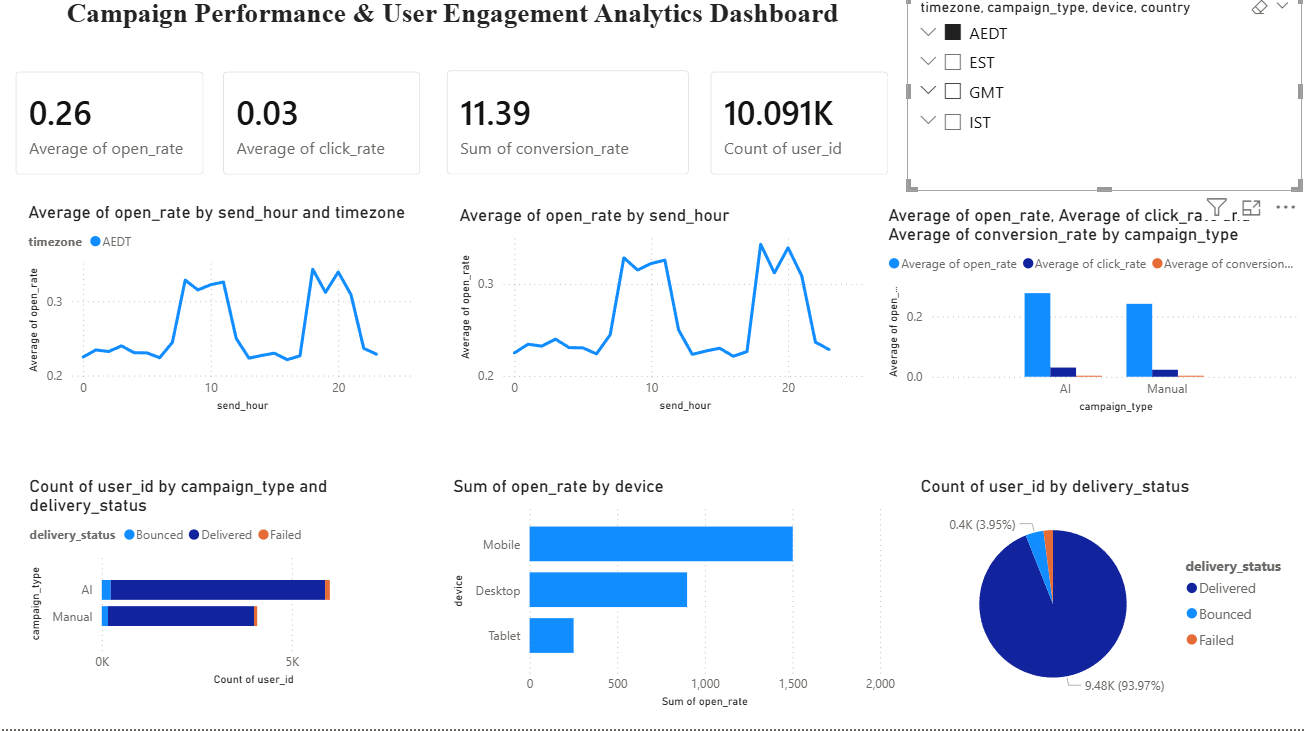

Layout of this report page (visuals, bound fields, positions):
{"tool":"powerbi","page":{"name":"Page 1","canvas":[1280,720],"ordinal":0},"visuals":[{"type":"slicer","fields":{"Values":["marketing_campaign_dataset_50k.timezone","marketing_campaign_dataset_50k.campaign_type","marketing_campaign_dataset_50k.device","marketing_campaign_dataset_50k.country"]},"box":[890,0,386.2,193.8],"z":0},{"type":"cardVisual","fields":{"Data":["Avg(marketing_campaign_dataset_50k.open_rate)"]},"box":[1.2,60,218.8,135],"z":1000},{"type":"cardVisual","fields":{"Data":["Avg(marketing_campaign_dataset_50k.click_rate)"]},"box":[203.8,60,227.5,135],"z":2000},{"type":"cardVisual","fields":{"Data":["Sum(marketing_campaign_dataset_50k.conversion_rate)"]},"box":[422.5,58.8,271.2,136.2],"z":3000},{"type":"cardVisual","fields":{"Data":["CountNonNull(marketing_campaign_dataset_50k.user_id)"]},"box":[681.2,60,208.8,135],"z":4000},{"type":"lineChart","fields":{"Category":["marketing_campaign_dataset_50k.send_hour"],"Y":["Avg(marketing_campaign_dataset_50k.open_rate)"],"Series":["marketing_campaign_dataset_50k.timezone"]},"box":[25.7,204.3,385.7,210],"z":5000},{"type":"lineChart","fields":{"Category":["marketing_campaign_dataset_50k.send_hour"],"Y":["Avg(marketing_campaign_dataset_50k.open_rate)"]},"box":[447.6,206.7,408.4,207.9],"z":6000},{"type":"clusteredColumnChart","fields":{"Category":["marketing_campaign_dataset_50k.campaign_type"],"Y":["Avg(marketing_campaign_dataset_50k.open_rate)","Avg(marketing_campaign_dataset_50k.click_rate)","Avg(marketing_campaign_dataset_50k.conversion_rate)"]},"box":[867.5,206.2,412.5,208.8],"z":7000},{"type":"barChart","fields":{"Category":["marketing_campaign_dataset_50k.campaign_type"],"Y":["CountNonNull(marketing_campaign_dataset_50k.user_id)"],"Series":["marketing_campaign_dataset_50k.delivery_status"]},"box":[26.9,472,385.2,210.3],"z":8000},{"type":"barChart","fields":{"Category":["marketing_campaign_dataset_50k.device"],"Y":["Sum(marketing_campaign_dataset_50k.open_rate)"]},"box":[441.4,472,442.7,232.3],"z":9000},{"type":"pieChart","fields":{"Y":["CountNonNull(marketing_campaign_dataset_50k.user_id)"],"Category":["marketing_campaign_dataset_50k.delivery_status"]},"box":[898.8,472,377.9,232.3],"z":10000},{"type":"textbox","box":[1.2,0,888.8,60],"z":10003}]}

Visuals, with their boxes in screenshot pixels (x1, y1, x2, y2), scaled from the page's 1280x720 canvas onto the 1305x731 screenshot:
slicer - marketing_campaign_dataset_50k.timezone x marketing_campaign_dataset_50k.campaign_type: detection(907, 0, 1301, 197)
cardVisual - Avg(marketing_campaign_dataset_50k.open_rate): detection(1, 61, 224, 198)
cardVisual - Avg(marketing_campaign_dataset_50k.click_rate): detection(208, 61, 440, 198)
cardVisual - Sum(marketing_campaign_dataset_50k.conversion_rate): detection(431, 60, 707, 198)
cardVisual - CountNonNull(marketing_campaign_dataset_50k.user_id): detection(695, 61, 907, 198)
lineChart - marketing_campaign_dataset_50k.send_hour x Avg(marketing_campaign_dataset_50k.open_rate): detection(26, 207, 419, 421)
lineChart - marketing_campaign_dataset_50k.send_hour x Avg(marketing_campaign_dataset_50k.open_rate): detection(456, 210, 873, 421)
clusteredColumnChart - marketing_campaign_dataset_50k.campaign_type x Avg(marketing_campaign_dataset_50k.open_rate): detection(884, 209, 1304, 421)
barChart - marketing_campaign_dataset_50k.campaign_type x CountNonNull(marketing_campaign_dataset_50k.user_id): detection(27, 479, 420, 693)
barChart - marketing_campaign_dataset_50k.device x Sum(marketing_campaign_dataset_50k.open_rate): detection(450, 479, 901, 715)
pieChart - CountNonNull(marketing_campaign_dataset_50k.user_id) x marketing_campaign_dataset_50k.delivery_status: detection(916, 479, 1302, 715)
textbox: detection(1, 0, 907, 61)
